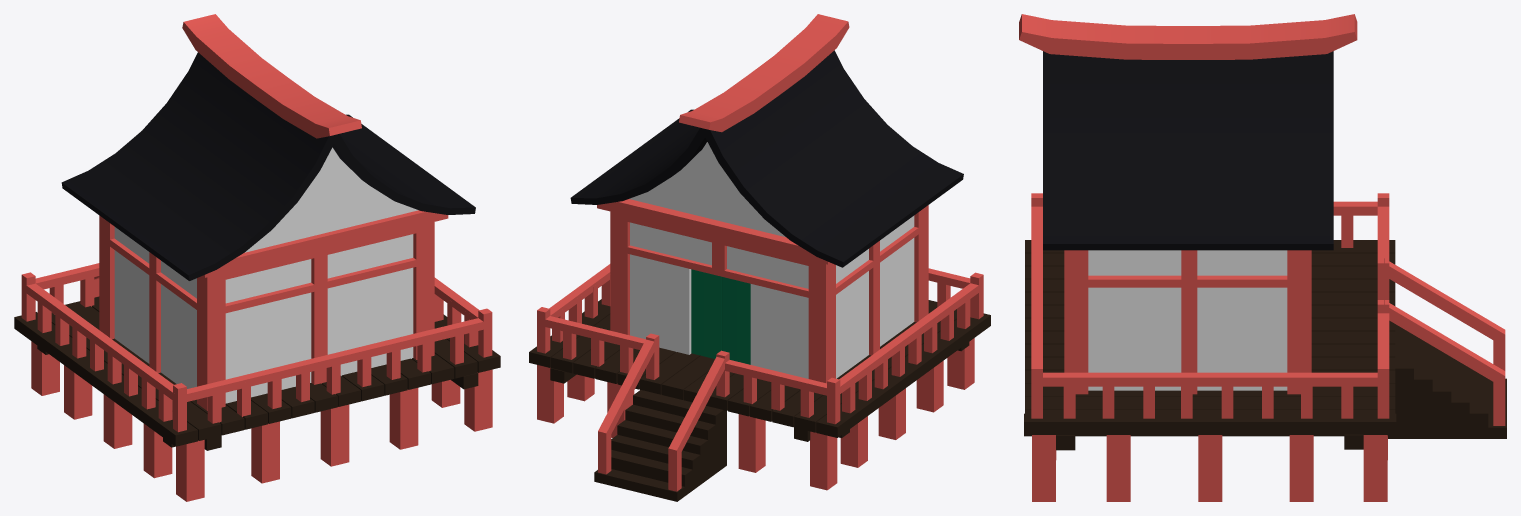
Rendered from tiny_house.fbx.
3 renders of one model, left to right at view 1: azimuth 30°, elevation 25°; view 2: azimuth 150°, elevation 25°; view 3: azimuth 270°, elevation 25°, orthographic. The views are drawn at different scales.
Visible parts, largest first — view 1: Huisje; view 2: Huisje; view 3: Huisje.
Part boxes in pixels (x1,y1,x2,y2): Huisje: (14, 14, 500, 501); Huisje: (529, 14, 990, 501); Huisje: (1019, 14, 1506, 501).
Bounding box in the file's own units: 143 × 144 × 161.
